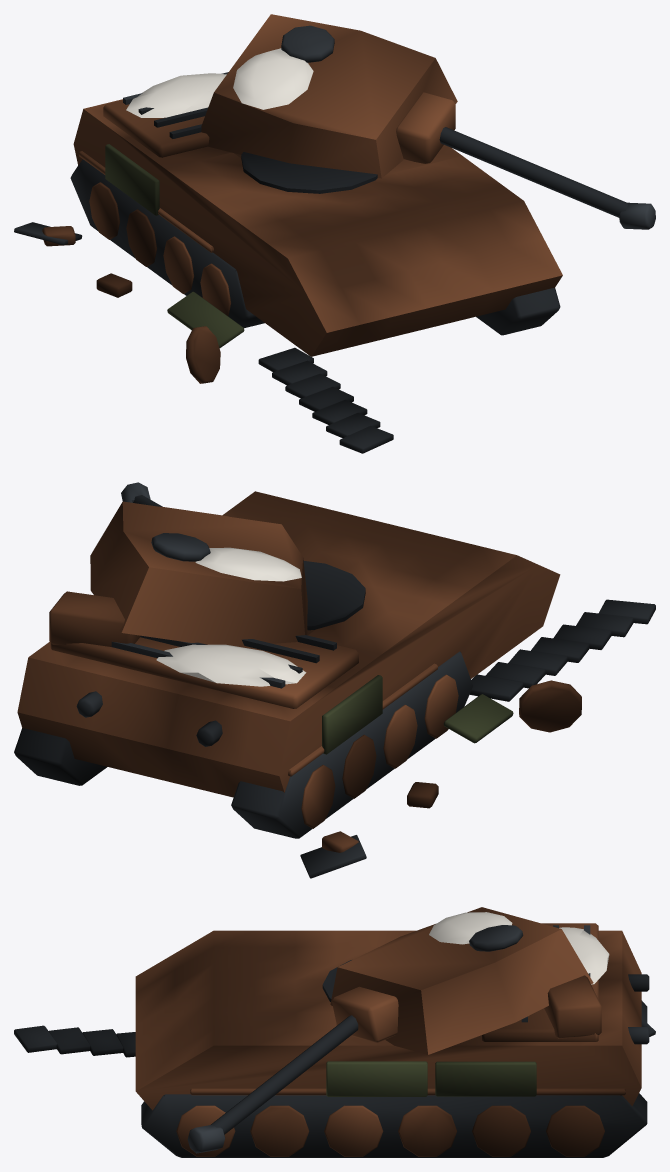
Rendered from wreck_tank.glb.
The picture shows the model from 3 angles, top to bottom: view 1: azimuth 30°, elevation 25°; view 2: azimuth 150°, elevation 25°; view 3: azimuth 270°, elevation 25°; orthographic projection. The views are drawn at different scales.
Visible parts, largest first — view 1: wreck_tank_rust, wreck_tank_iron, wreck_tank_snow, wreck_tank_olive; view 2: wreck_tank_rust, wreck_tank_iron, wreck_tank_snow, wreck_tank_olive; view 3: wreck_tank_rust, wreck_tank_iron, wreck_tank_olive, wreck_tank_snow.
Boxes of the visible parts, left/top/right/bottom form: wreck_tank_rust: left=42, top=14, right=562, bottom=383; wreck_tank_iron: left=14, top=25, right=655, bottom=453; wreck_tank_snow: left=126, top=48, right=313, bottom=117; wreck_tank_olive: left=105, top=144, right=244, bottom=348; wreck_tank_rust: left=17, top=491, right=581, bottom=852; wreck_tank_iron: left=14, top=482, right=655, bottom=878; wreck_tank_snow: left=156, top=547, right=306, bottom=686; wreck_tank_olive: left=322, top=675, right=513, bottom=754; wreck_tank_rust: left=135, top=907, right=641, bottom=1156; wreck_tank_iron: left=14, top=925, right=655, bottom=1157; wreck_tank_olive: left=326, top=1061, right=536, bottom=1096; wreck_tank_snow: left=429, top=912, right=609, bottom=984.
Bounding box in the file's own units: 6.54 × 2.96 × 8.25.
